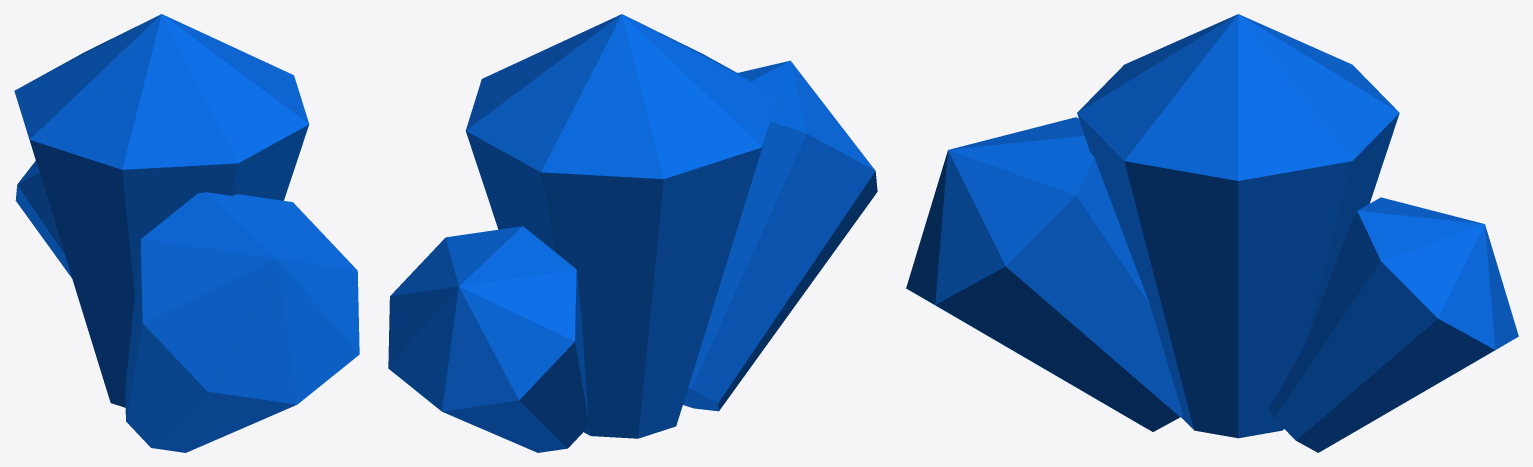
File: koori.fbx
3 renders of one model, left to right at view 1: azimuth 30°, elevation 25°; view 2: azimuth 150°, elevation 25°; view 3: azimuth 270°, elevation 25°, orthographic. The views are drawn at different scales.
Visible parts, largest first — view 1: 円; view 2: 円; view 3: 円.
Boxes of the visible parts, box(x1,y1,x2,y2) form: 円: box(14, 14, 359, 452); 円: box(388, 14, 877, 452); 円: box(906, 14, 1518, 452).
Bounding box in the file's own units: 517 × 747 × 982.
